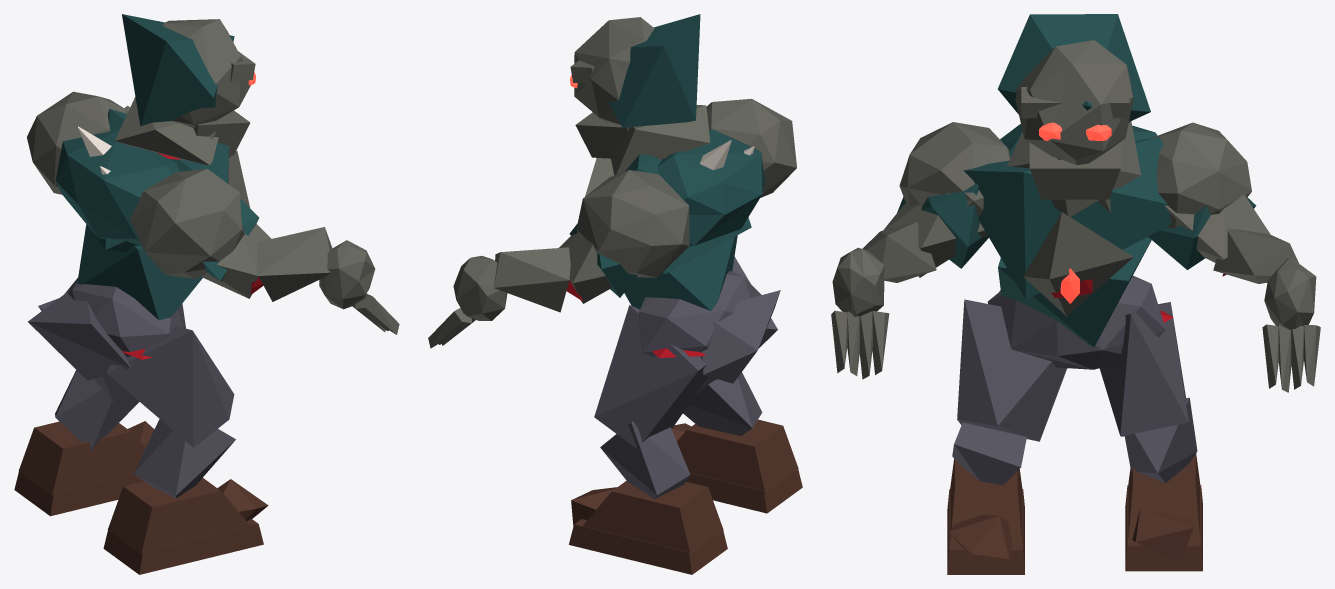
The model's file is inf.alpha-hoodie.lod2.glb.
3 views of the same model, side by side, from view 1: azimuth 30°, elevation 25°; view 2: azimuth 150°, elevation 25°; view 3: azimuth 270°, elevation 25° (orthographic). The views are drawn at different scales.
Visible parts, largest first — view 1: torso, head, armR, footR, footL, hip, legR, shinR, armL, foreArmR, handR, shinL (+1 smaller); view 2: torso, head, armL, footL, hip, footR, legL, armR, shinL, foreArmL, handL, shinR; view 3: torso, head, armL, armR, legR, footL, footR, legL, hip, handR, handL, shinR (+3 smaller).
Part boxes in pixels (x1,y1,x2,y2): torso: (55, 97, 249, 319); head: (122, 14, 255, 155); armR: (130, 169, 271, 298); footR: (103, 478, 268, 574); footL: (14, 421, 154, 516); hip: (28, 278, 185, 380); legR: (106, 325, 234, 447); shinR: (133, 419, 235, 498); armL: (27, 91, 128, 194); foreArmR: (257, 227, 332, 301); handR: (319, 240, 399, 334); shinL: (55, 370, 139, 450); torso: (585, 105, 764, 310); head: (570, 14, 700, 175); armL: (559, 170, 689, 303); footL: (569, 481, 727, 574); hip: (638, 270, 780, 383); footR: (672, 419, 802, 513); legL: (594, 305, 708, 449); armR: (706, 98, 796, 197); shinL: (600, 421, 690, 498); foreArmL: (493, 247, 570, 312); handL: (428, 256, 507, 348); shinR: (683, 372, 762, 435); torso: (963, 121, 1171, 346); head: (998, 14, 1150, 213); armL: (1148, 122, 1269, 269); armR: (883, 122, 1010, 277); legR: (957, 299, 1067, 441); footL: (1125, 453, 1202, 571); footR: (947, 458, 1024, 574); legL: (1099, 302, 1189, 436); hip: (987, 275, 1165, 369); handR: (831, 247, 889, 379); handL: (1262, 257, 1320, 392); shinR: (952, 422, 1026, 485).
Size of the model in its own units: 1.32 by 2.52 by 2.11.
